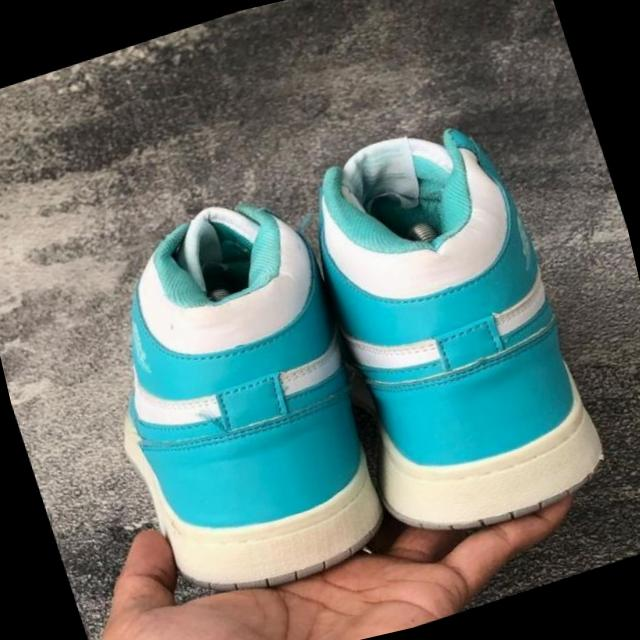nike_fake_jordan: (268, 91, 626, 566), (52, 168, 420, 626)
